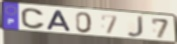0: (76, 12, 94, 34)
7: (151, 18, 171, 39), (101, 14, 119, 35)
A: (45, 10, 73, 33)
C: (20, 8, 47, 30)
J: (126, 15, 145, 38)
